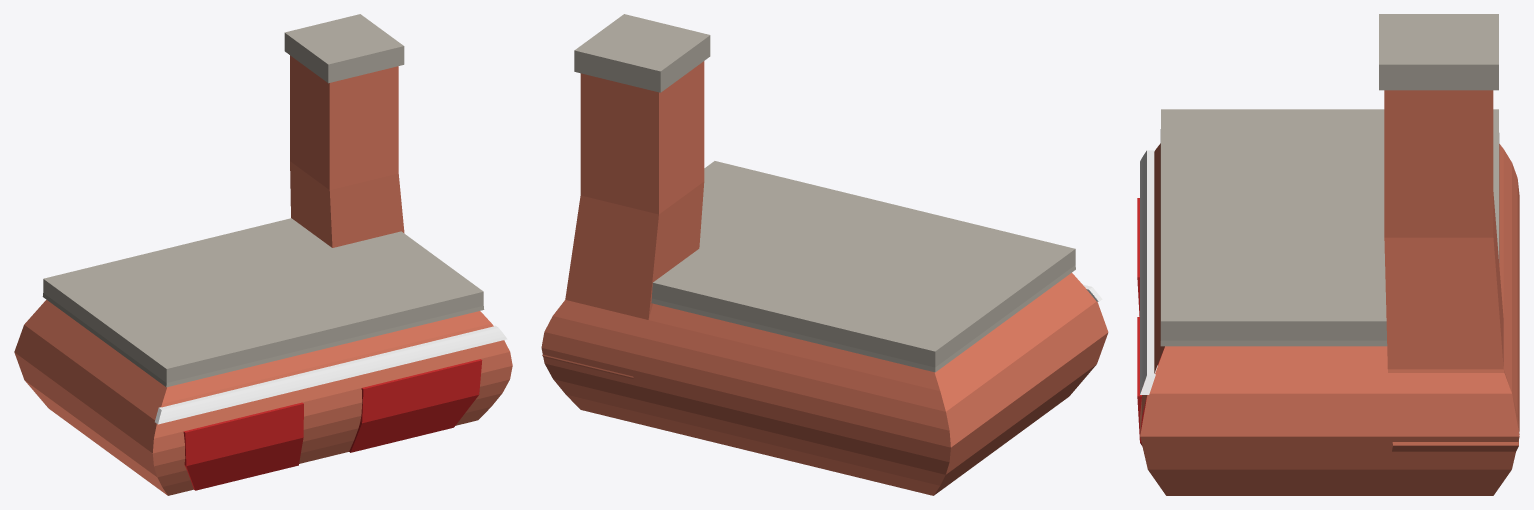
File: fire_station.glb
3 renders of one model, left to right at view 1: azimuth 30°, elevation 25°; view 2: azimuth 150°, elevation 25°; view 3: azimuth 270°, elevation 25°, orthographic. The views are drawn at different scales.
Parts seen in each view (by area): view 1: fire_station_brick, fire_station_roof_flat, fire_station_fire_red, fire_station_white; view 2: fire_station_brick, fire_station_roof_flat; view 3: fire_station_brick, fire_station_roof_flat, fire_station_white, fire_station_fire_red.
Boxes of the visible parts, left/top/right/bottom form: fire_station_brick: left=14, top=55, right=512, bottom=495; fire_station_roof_flat: left=42, top=14, right=484, bottom=387; fire_station_fire_red: left=183, top=359, right=482, bottom=490; fire_station_white: left=155, top=325, right=507, bottom=424; fire_station_brick: left=541, top=61, right=1108, bottom=495; fire_station_roof_flat: left=574, top=14, right=1075, bottom=372; fire_station_brick: left=1140, top=90, right=1519, bottom=495; fire_station_roof_flat: left=1160, top=14, right=1499, bottom=346; fire_station_white: left=1140, top=150, right=1155, bottom=394; fire_station_fire_red: left=1137, top=198, right=1164, bottom=445.
Size of the model in its own units: 21.72 by 18.25 by 14.58.
